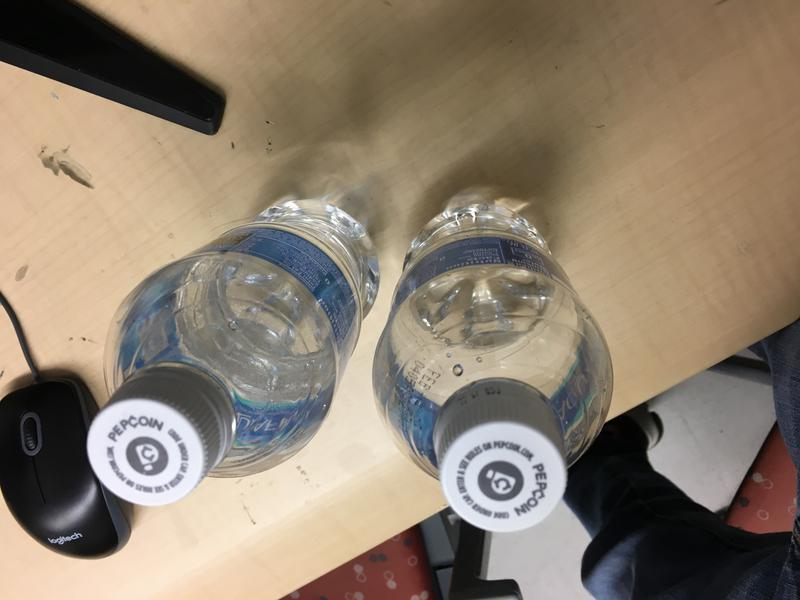bottle: (85, 198, 382, 505), (371, 203, 614, 533)
